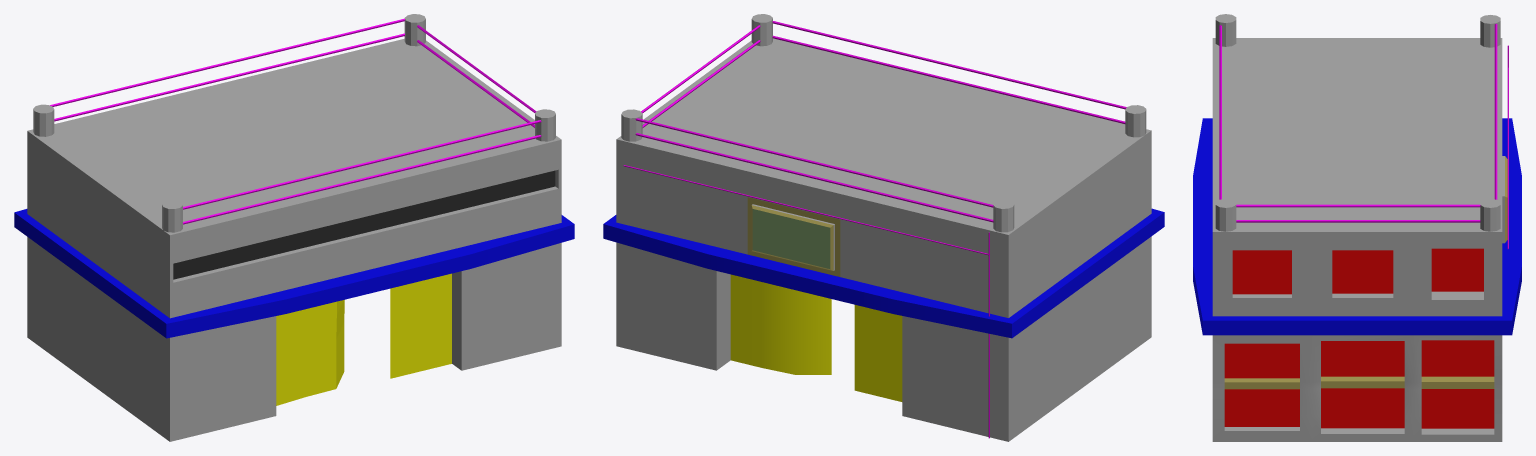
Rendered from darr2.fbx.
3 renders of one model, left to right at view 1: azimuth 30°, elevation 25°; view 2: azimuth 150°, elevation 25°; view 3: azimuth 270°, elevation 25°, orthographic.
Parts seen in each view (by area): view 1: pCube1, pCylinder12, pCylinder13, pCylinder3, pCylinder1, pCylinder8, pCylinder11, pCylinder9, pCylinder10; view 2: pCube1, pCylinder1, pCylinder3, pCylinder12, pCylinder13, pCylinder16, pCylinder8, pCylinder11, pCylinder9, pCylinder10; view 3: pCube1, pCylinder14, pCylinder15, pCylinder3, pCylinder10, pCylinder9, pCylinder11, pCylinder8, pCylinder12, pCylinder16.
Boxes of the visible parts, x1,y1,x2,y2 form: pCube1: (14, 38, 574, 441); pCylinder12: (183, 120, 541, 209); pCylinder13: (183, 135, 541, 224); pCylinder3: (50, 18, 404, 106); pCylinder1: (54, 33, 404, 121); pCylinder8: (33, 104, 54, 136); pCylinder11: (162, 200, 182, 232); pCylinder9: (404, 14, 425, 46); pCylinder10: (535, 109, 555, 141); pCube1: (603, 38, 1164, 441); pCylinder1: (635, 133, 993, 222); pCylinder3: (635, 118, 993, 207); pCylinder12: (772, 21, 1126, 109); pCylinder13: (772, 35, 1125, 123); pCylinder16: (623, 165, 988, 255); pCylinder8: (993, 200, 1014, 232); pCylinder11: (1125, 105, 1146, 137); pCylinder9: (621, 109, 642, 141); pCylinder10: (751, 14, 772, 46); pCube1: (1193, 38, 1521, 441); pCylinder14: (1236, 204, 1480, 207); pCylinder15: (1236, 220, 1480, 222); pCylinder3: (1494, 23, 1497, 199); pCylinder10: (1215, 199, 1236, 231); pCylinder9: (1480, 199, 1500, 231); pCylinder11: (1215, 14, 1236, 46); pCylinder8: (1480, 15, 1500, 47); pCylinder12: (1219, 25, 1221, 199); pCylinder16: (1507, 67, 1508, 249).
Size of the model in its own units: 75.75 by 40.81 by 52.
